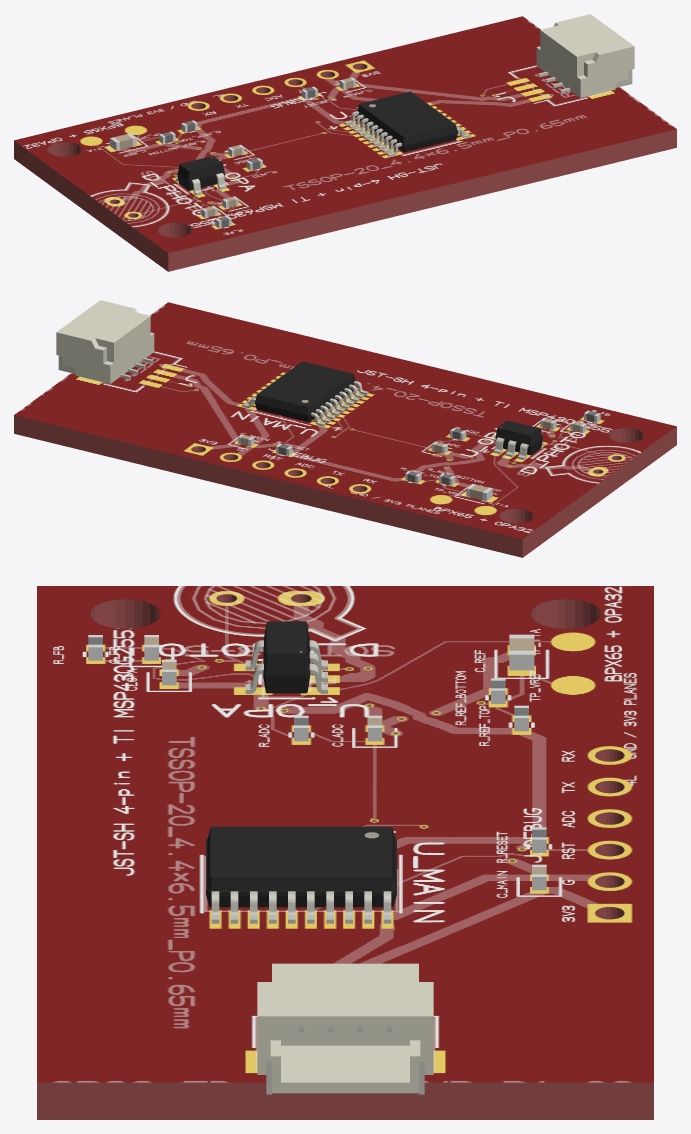
The picture shows the model from 3 angles, top to bottom: view 1: azimuth 30°, elevation 25°; view 2: azimuth 150°, elevation 25°; view 3: azimuth 270°, elevation 25°; orthographic projection. The views are drawn at different scales.
Parts seen in each view (by area): view 1: Box0, J1, U_MAIN, U_OPA; view 2: Box0, J1, U_MAIN, U_OPA; view 3: Box0, J1, U_MAIN, U_OPA, C_REF.
Boxes of the visible parts, x1,y1,x2,y2 form: Box0: (14,16,676,271); J1: (536,14,634,97); U_MAIN: (344,91,470,156); U_OPA: (175,156,226,195); Box0: (14,302,676,557); J1: (56,300,154,383); U_MAIN: (242,361,368,426); U_OPA: (493,420,544,459); Box0: (37,586,653,1119); J1: (257,963,433,1094); U_MAIN: (206,826,396,923); U_OPA: (245,621,327,693); C_REF: (509,634,534,670).
Bounding box in the file's own units: 41 × 4.36 × 21.
Materials: 10 (2 with a texture image).
